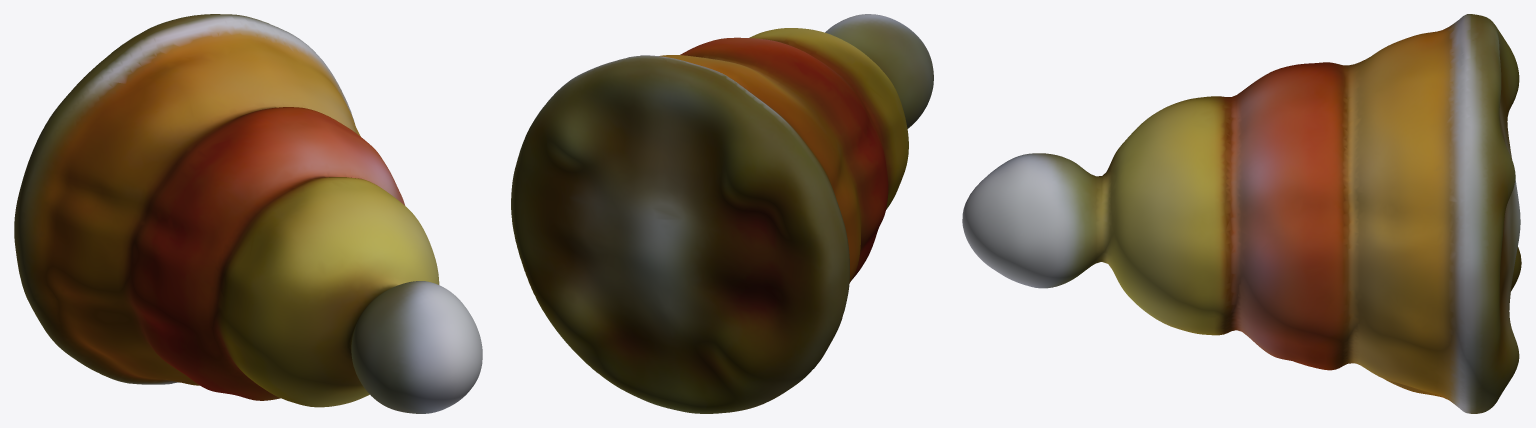
Rendered from chicken.glb.
3 views of the same model, side by side, from view 1: azimuth 30°, elevation 25°; view 2: azimuth 150°, elevation 25°; view 3: azimuth 270°, elevation 25° (orthographic). The views are drawn at different scales.
Size of the model in its own units: 0.7137 by 0.7154 by 0.9996.
